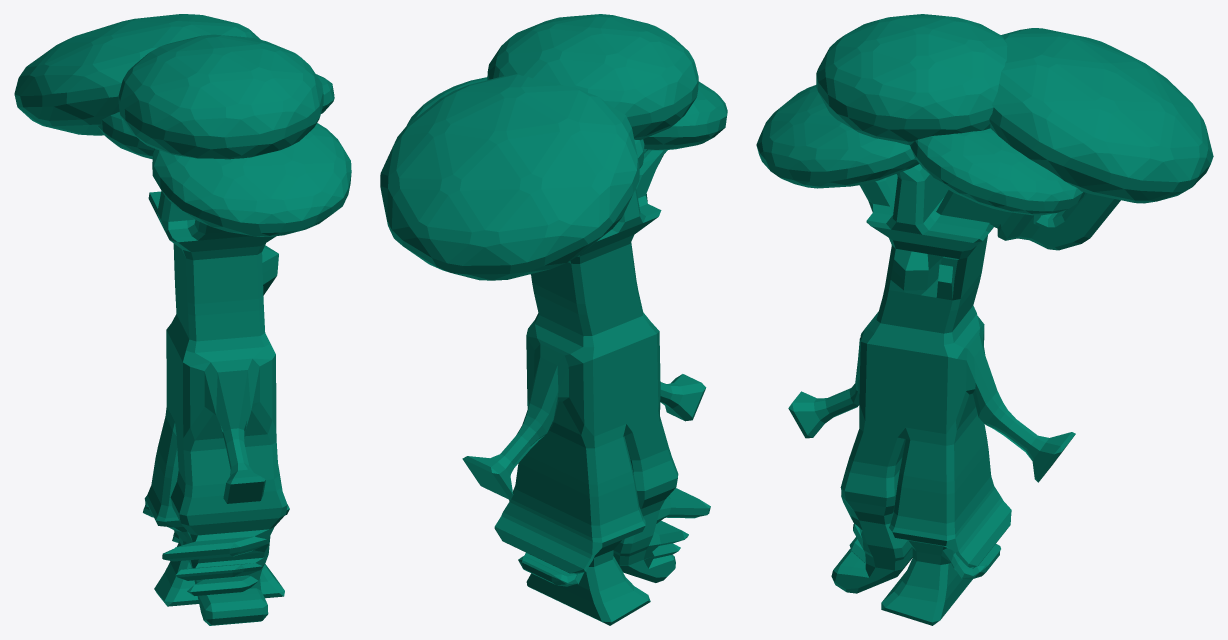
Rendered from Holly.fbx.
The picture shows the model from 3 angles, left to right: view 1: azimuth 30°, elevation 25°; view 2: azimuth 150°, elevation 25°; view 3: azimuth 270°, elevation 25°; orthographic projection. The views are drawn at different scales.
Parts seen in each view (by area): view 1: Holly; view 2: Holly; view 3: Holly.
Boxes of the visible parts, left/top/right/bottom form: Holly: left=14, top=14, right=351, bottom=625; Holly: left=380, top=14, right=727, bottom=625; Holly: left=756, top=14, right=1213, bottom=625.
Bounding box in the file's own units: 601 × 1276 × 934.
